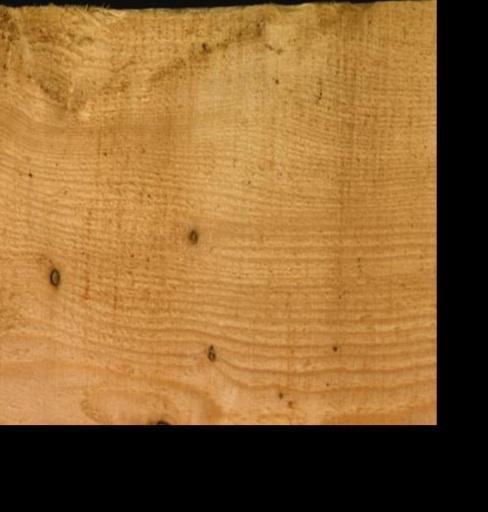dry_knot: (185, 226, 198, 245)
small_knot: (202, 343, 216, 361)
